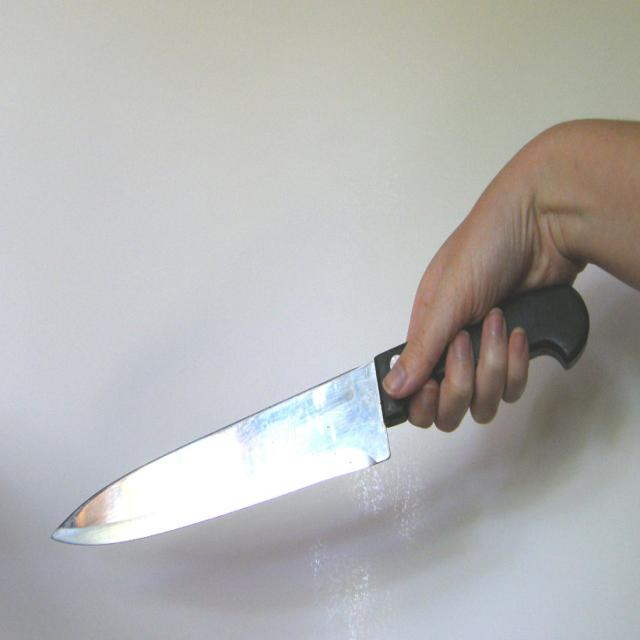knife: (47, 284, 592, 542)
